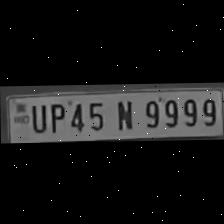4: (64, 98, 86, 131)
5: (84, 97, 106, 130)
9: (138, 95, 160, 128), (178, 94, 198, 127), (197, 94, 217, 127), (160, 95, 178, 127)
N: (110, 96, 136, 130)
P: (45, 98, 65, 132)
U: (26, 100, 46, 132)
